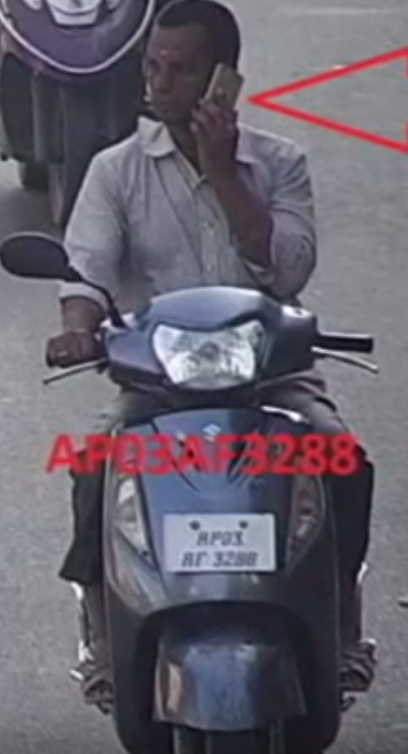h_bike: (36, 14, 389, 743)
h_nohelmet: (129, 1, 258, 166)
numplate: (158, 508, 288, 585)
